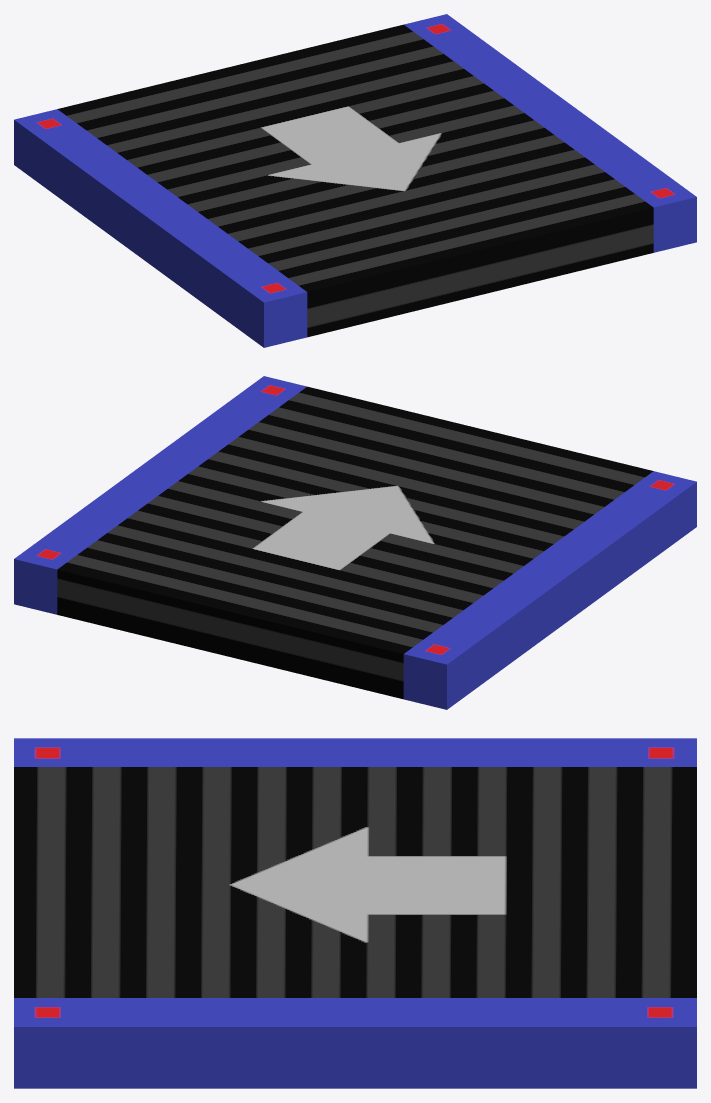
Rendered from conveyor_belt.gltf.
3 renders of one model, top to bottom at view 1: azimuth 30°, elevation 25°; view 2: azimuth 150°, elevation 25°; view 3: azimuth 270°, elevation 25°, orthographic. The views are drawn at different scales.
Parts seen in each view (by area): view 1: Cube.002, Cube, Cube.001; view 2: Cube.002, Cube, Cube.001; view 3: Cube.002, Cube.001, Cube.
Part boxes in pixels (x1,y1,x2,y2): Cube.002: (57,24,653,337); Cube: (14,109,307,347); Cube.001: (404,14,696,252); Cube.002: (57,386,653,699); Cube: (403,471,696,709); Cube.001: (14,376,306,614); Cube.002: (14,767,696,997); Cube.001: (14,998,696,1088); Cube: (14,738,696,766).
Bounding box in the file's own units: 2 × 0.2 × 2.
2 materials, 2 textured.
